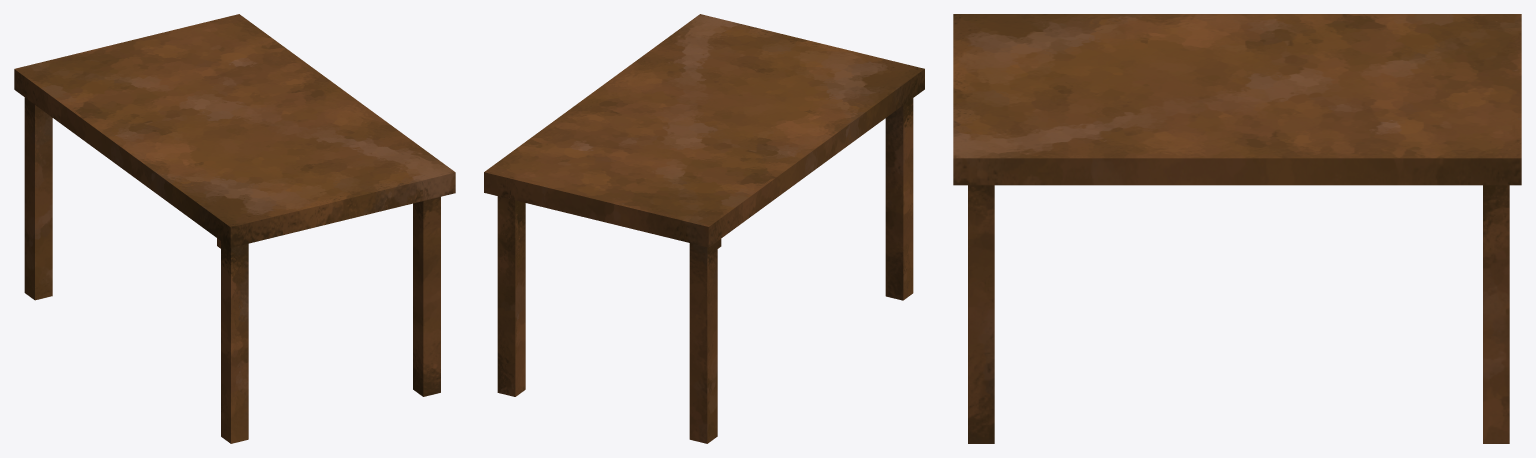
File: Mesa_MESH.fbx
3 views of the same model, side by side, from view 1: azimuth 30°, elevation 25°; view 2: azimuth 150°, elevation 25°; view 3: azimuth 270°, elevation 25° (orthographic). The views are drawn at different scales.
Parts seen in each view (by area): view 1: Mesa_MESH; view 2: Mesa_MESH; view 3: Mesa_MESH.
Boxes of the visible parts, box(x1,y1,x2,y2) form: Mesa_MESH: box(14, 14, 455, 443); Mesa_MESH: box(484, 14, 924, 443); Mesa_MESH: box(953, 14, 1521, 443).
Bounding box in the file's own units: 87.84 × 82.81 × 146.
1 material, 1 textured.
